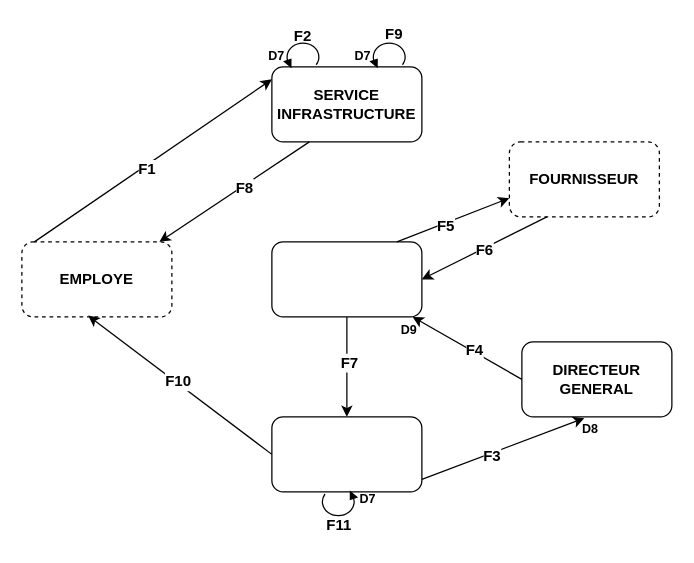
Some shapes in this 694 by 563 pixel diagram are drawn without their labels. Each missing label, with the centre of its shape:
"COMPTABLE" goes at point 346,279.
"RESPONSABLE INFRASTRUCTURE" goes at point 346,454.
